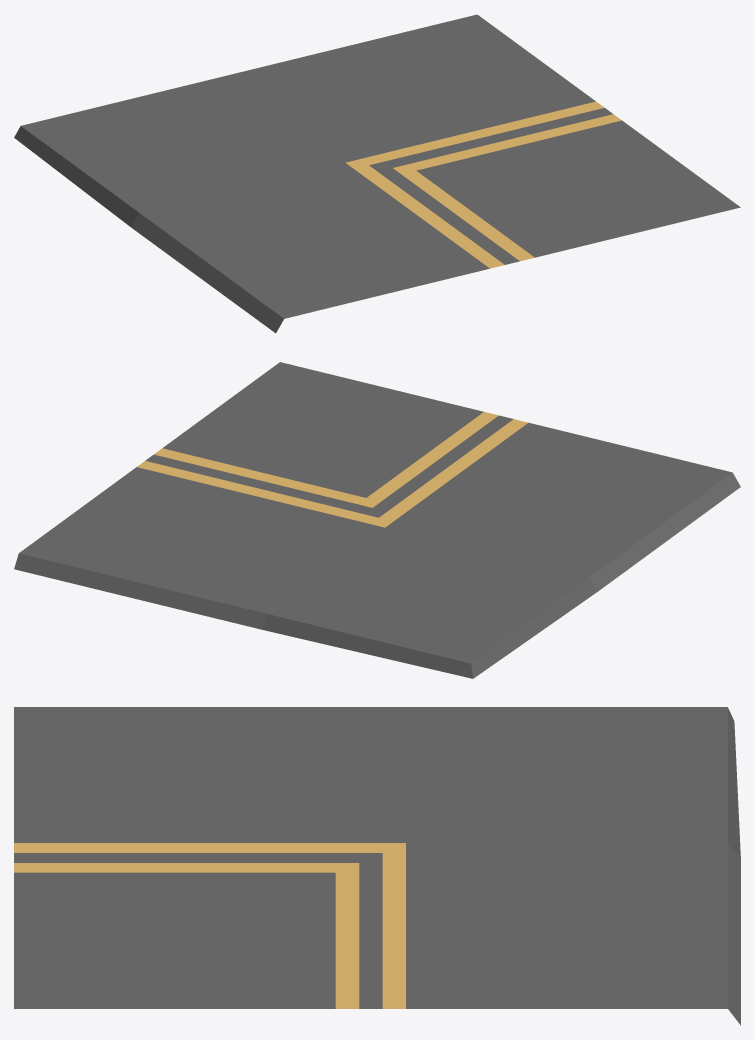
File: Calle_Esquina.fbx
3 renders of one model, top to bottom at view 1: azimuth 30°, elevation 25°; view 2: azimuth 150°, elevation 25°; view 3: azimuth 270°, elevation 25°, orthographic. The views are drawn at different scales.
Parts seen in each view (by area): view 1: Calle_esquina; view 2: Calle_esquina; view 3: Calle_esquina.
Part boxes in pixels (x1,y1,x2,y2): Calle_esquina: (14,14,740,333); Calle_esquina: (14,362,740,678); Calle_esquina: (14,707,740,1025).
Size of the model in its own units: 306 by 7.9 by 306.
